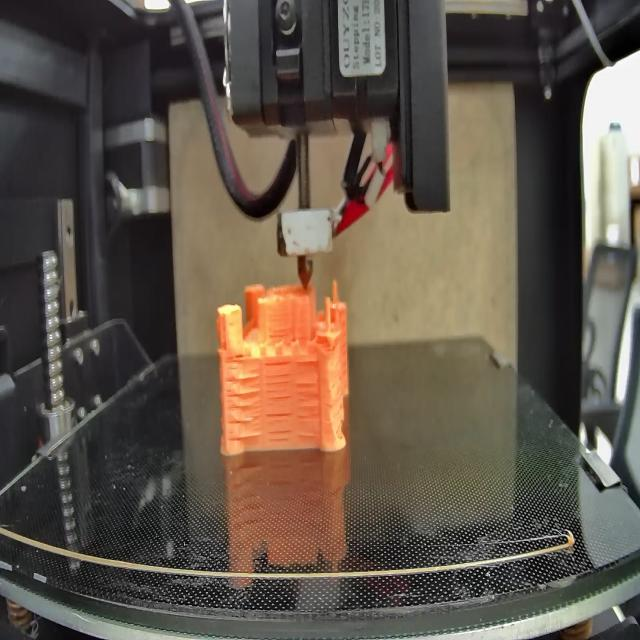cracks: (225, 374, 262, 438), (266, 362, 292, 438), (294, 378, 320, 445), (293, 354, 323, 370), (267, 327, 290, 337), (229, 350, 248, 360)
